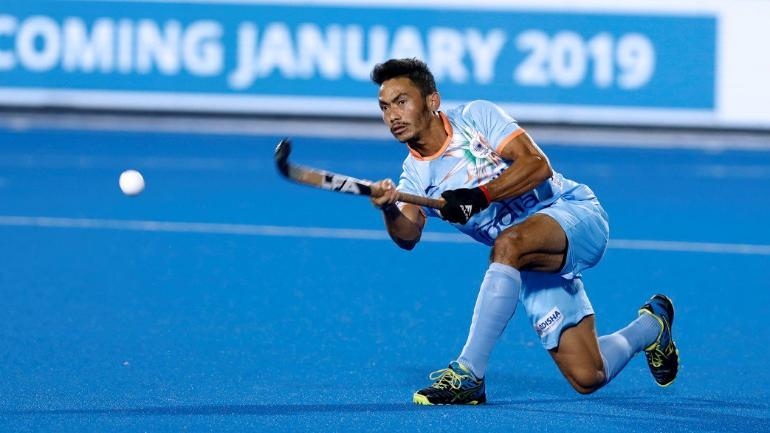ball: (110, 162, 151, 202)
